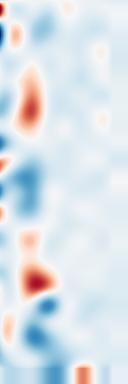filament: (17, 225, 61, 304), (13, 64, 52, 143)
